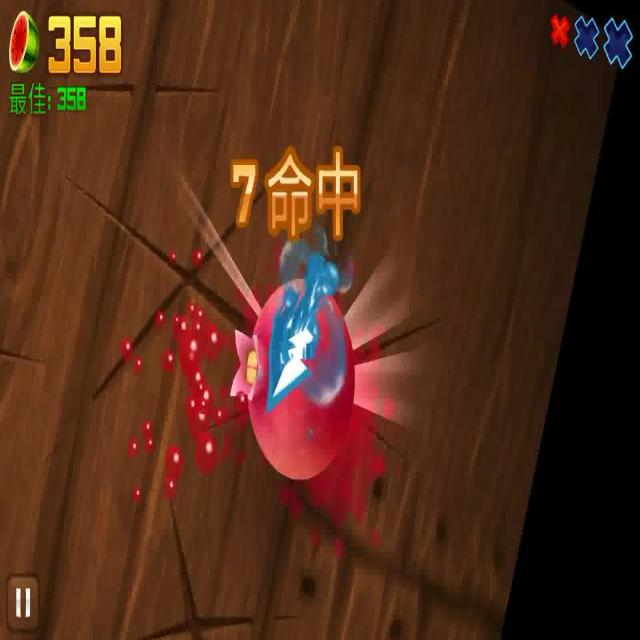fruit: (237, 286, 353, 488)
